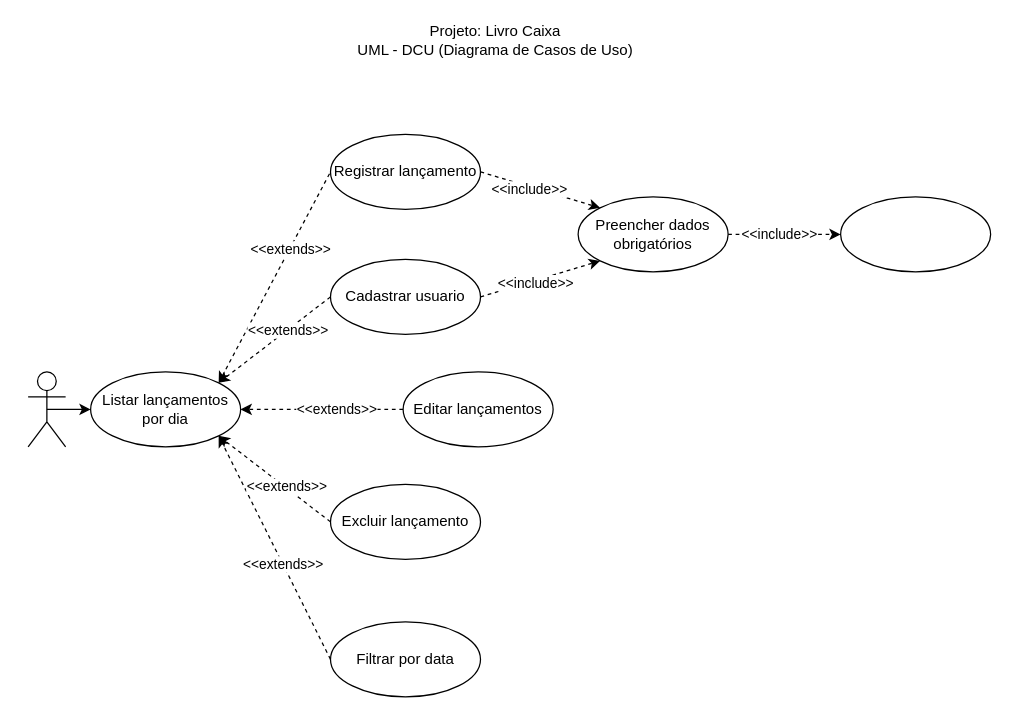
The diagram is 1013 pixels wide and 719 high, and some of its shapes have lost their labels. Each missing label, with the centre of its shape:
"Enviar" goes at (915,234).
"Usuario" goes at (46,409).
